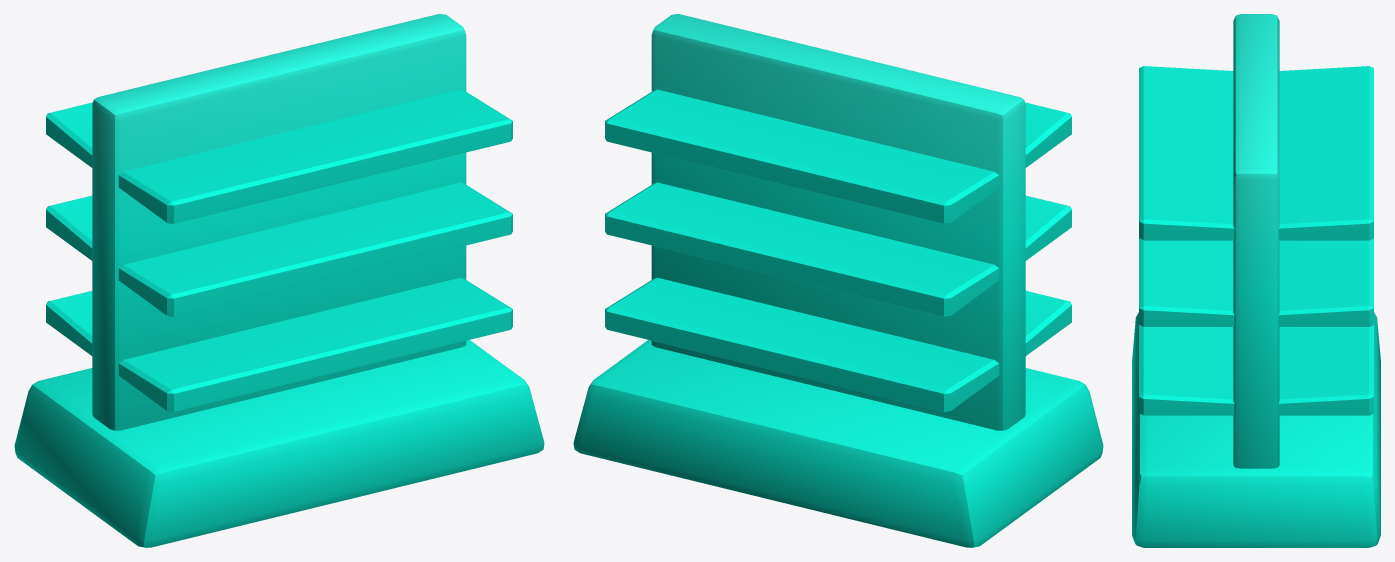
File: Kitchen_Rack_02_C05.fbx
3 views of the same model, side by side, from view 1: azimuth 30°, elevation 25°; view 2: azimuth 150°, elevation 25°; view 3: azimuth 270°, elevation 25° (orthographic). The views are drawn at different scales.
Visible parts, largest first — view 1: Kitchen_Rack_02_C05; view 2: Kitchen_Rack_02_C05; view 3: Kitchen_Rack_02_C05.
Boxes of the visible parts, bbox=[...] form: Kitchen_Rack_02_C05: bbox=[14, 14, 544, 547]; Kitchen_Rack_02_C05: bbox=[573, 14, 1103, 547]; Kitchen_Rack_02_C05: bbox=[1132, 14, 1380, 547].
Bounding box in the file's own units: 200 × 185 × 114.
